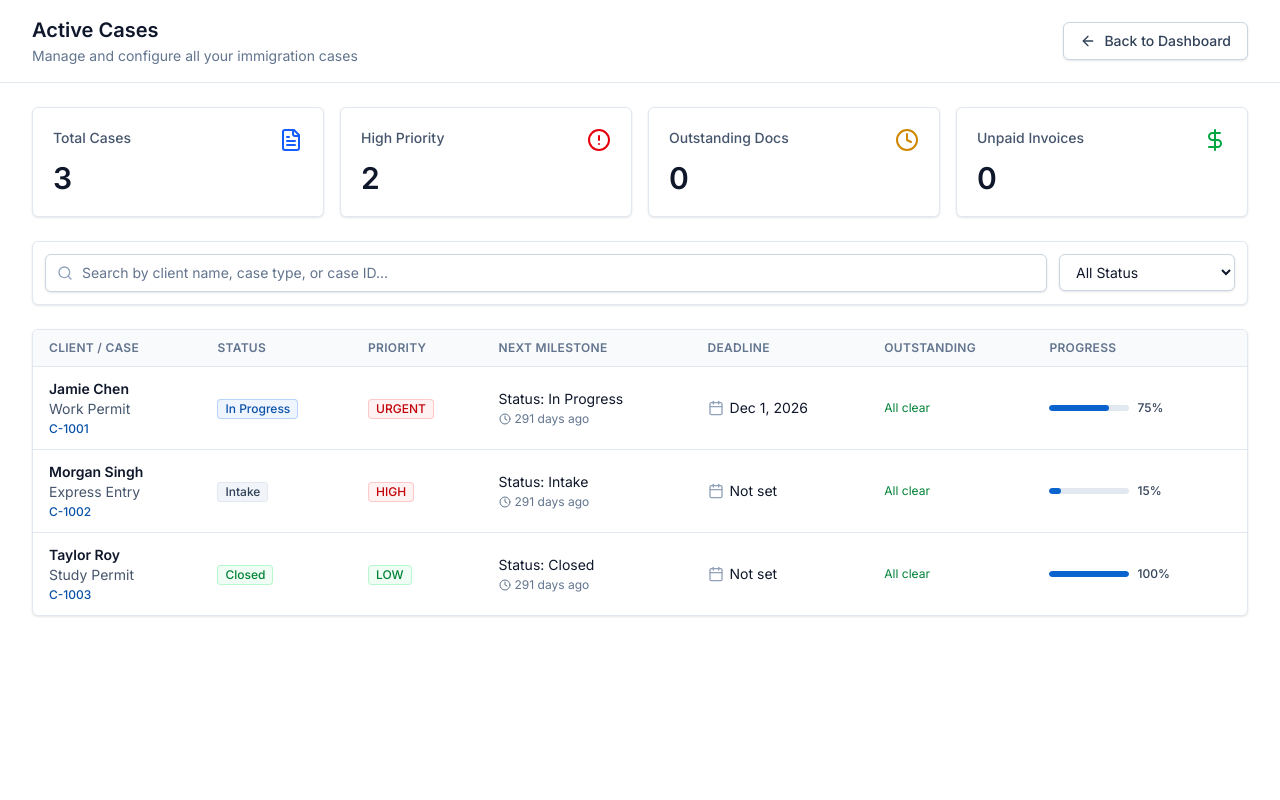
Scenario: ActiveCases page › CT-CASES-02: searches by client name, case type, or case ID
The width and height of the screenshot is (1280, 800).
Expected: the text "Jamie Chen" is shown, 49,380 -> 129,397
In the field named "Search cases": (546, 273) 45,254 -> 1047,292, type "study"
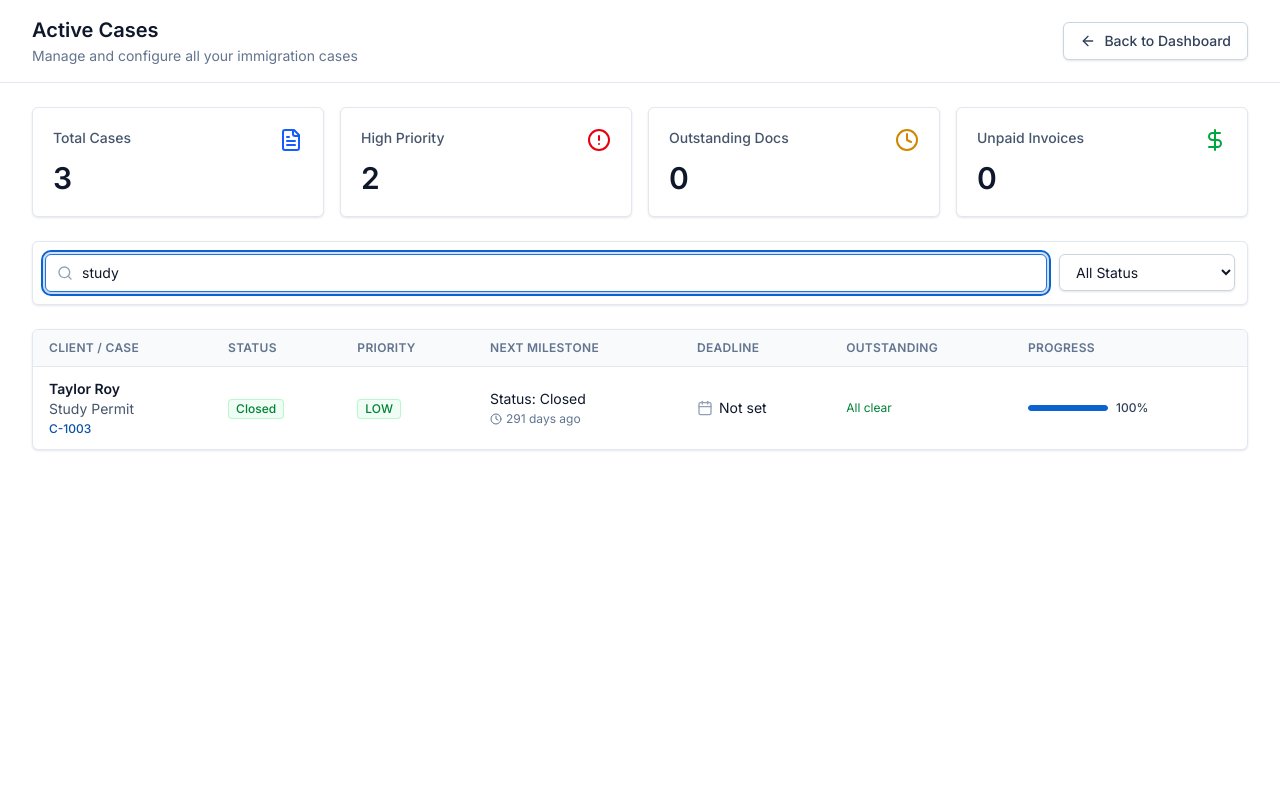
Expected: the text "Taylor Roy" is shown, 49,380 -> 120,397
Result: the text "Jamie Chen" is gone
Replace the text in the field named "Search cases" with "c-1002": (546, 273) 45,254 -> 1047,292
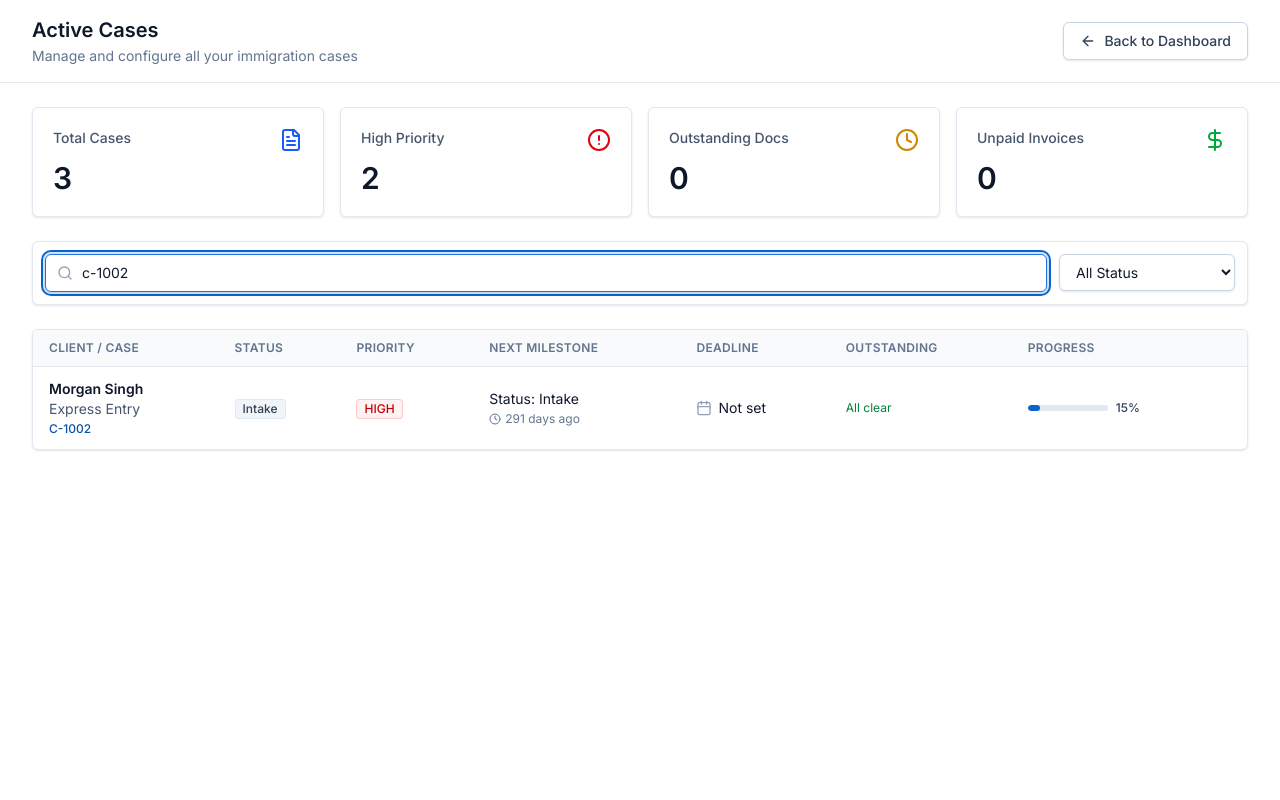
Expected: the text "Taylor Roy" is not shown
Result: the text "Morgan Singh" is shown at 49,380 -> 143,397
Replace the text in the field named "Search cases" with "nobody": (546, 273) 45,254 -> 1047,292
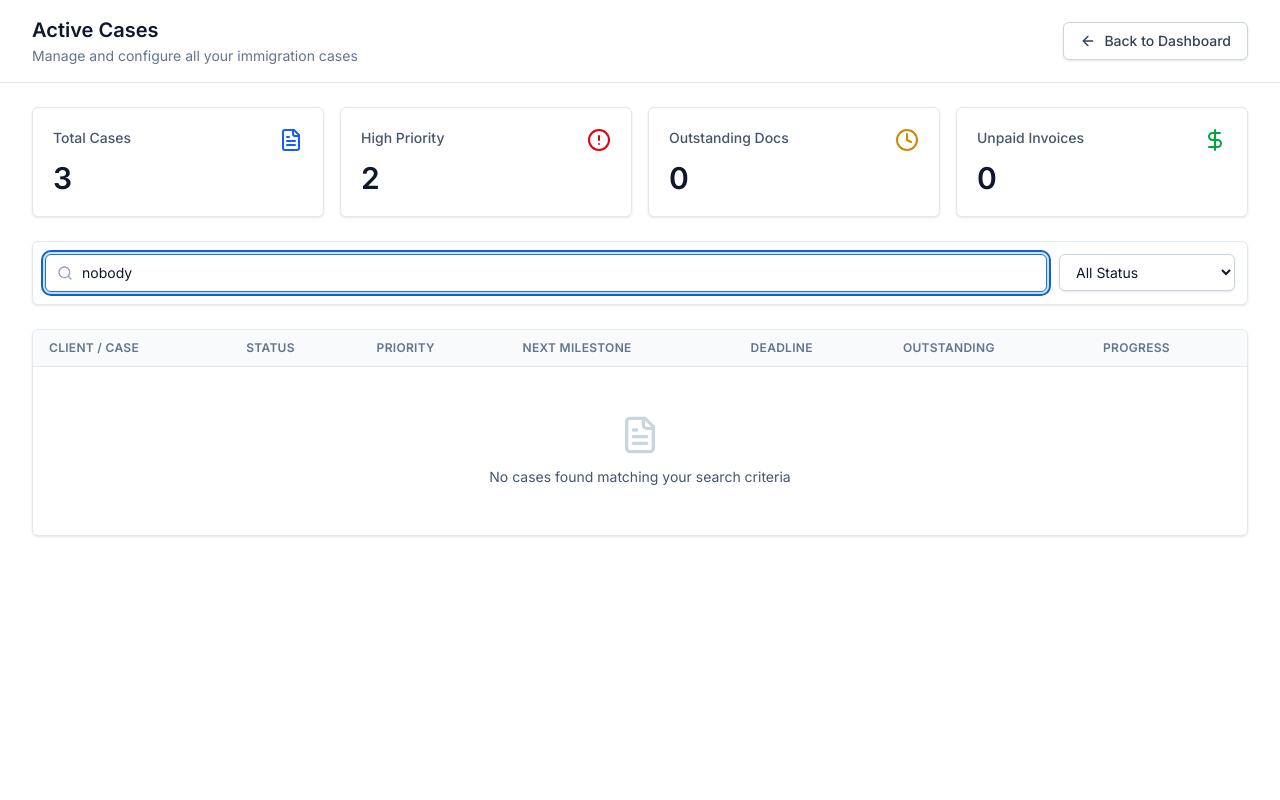
Result: the text "No cases found matching your search criteria" is shown at 489,468 -> 791,485
